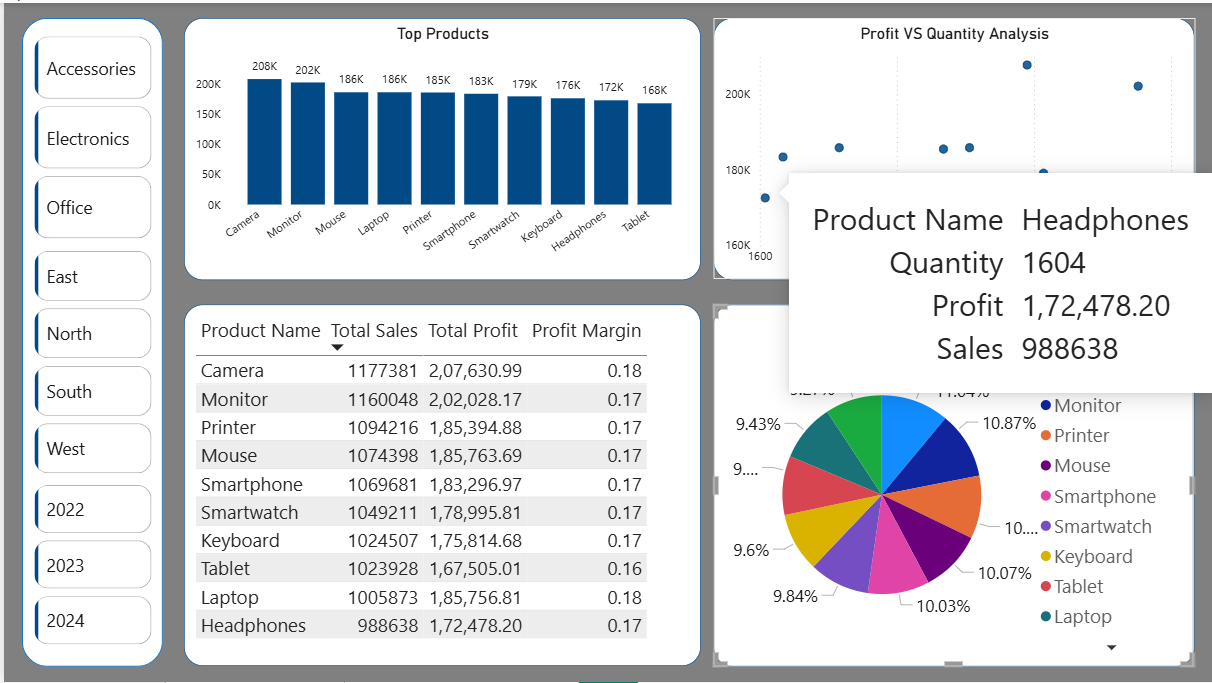

What the dashboard file says about the page in this screenshot:
{"tool":"powerbi","page":{"name":"Product Performance","canvas":[1280,720],"ordinal":1},"visuals":[{"type":"columnChart","title":"Top Products ","fields":{"Category":["ecommerce_sales_data.Product Name"],"Y":["ecommerce_sales_data.Total Profit"]},"box":[190.9,15.1,548,277.8],"z":0},{"type":"scatterChart","title":"Profit VS Quantity  Analysis ","fields":{"X":["Sum(ecommerce_sales_data.Quantity)"],"Y":["Sum(ecommerce_sales_data.Profit)"],"Category":["ecommerce_sales_data.Product Name"]},"box":[752.1,15.1,510.2,277.8],"z":2000},{"type":"shape","box":[18.9,15.1,149.3,687.9],"z":2500},{"type":"advancedSlicerVisual","fields":{"Values":["ecommerce_sales_data.Category"]},"box":[26.5,30.2,134.2,226.8],"z":3000},{"type":"advancedSlicerVisual","fields":{"Values":["ecommerce_sales_data.Region"]},"box":[26.5,257,134.2,249.5],"z":4000},{"type":"advancedSlicerVisual","fields":{"Values":["ecommerce_sales_data.Order Date.Variation.Date Hierarchy.Year"]},"box":[26.5,506.5,134.2,181.4],"z":6000},{"type":"tableEx","fields":{"Values":["ecommerce_sales_data.Product Name","ecommerce_sales_data.Total Sales","ecommerce_sales_data.Total Profit","ecommerce_sales_data.Profit Margin"]},"box":[190.9,319.4,548,383.6],"z":6001},{"type":"pieChart","title":"Sales by Product Name","fields":{"Category":["ecommerce_sales_data.Product Name"],"Y":["ecommerce_sales_data.Total Sales"]},"box":[752,319,510,384],"z":6002}]}

Visuals, with their boxes in screenshot pixels (x1, y1, x2, y2), scaled from the page's 1280x720 canvas onto the 1212x683 screenshot:
"Top Products " columnChart: rect(181, 14, 700, 278)
"Profit VS Quantity  Analysis " scatterChart: rect(712, 14, 1195, 278)
shape: rect(18, 14, 159, 667)
advancedSlicerVisual - ecommerce_sales_data.Category: rect(25, 29, 152, 244)
advancedSlicerVisual - ecommerce_sales_data.Region: rect(25, 244, 152, 480)
advancedSlicerVisual - ecommerce_sales_data.Order Date.Variation.Date Hierarchy.Year: rect(25, 480, 152, 653)
tableEx - ecommerce_sales_data.Product Name x ecommerce_sales_data.Total Sales: rect(181, 303, 700, 667)
"Sales by Product Name" pieChart: rect(712, 303, 1195, 667)
